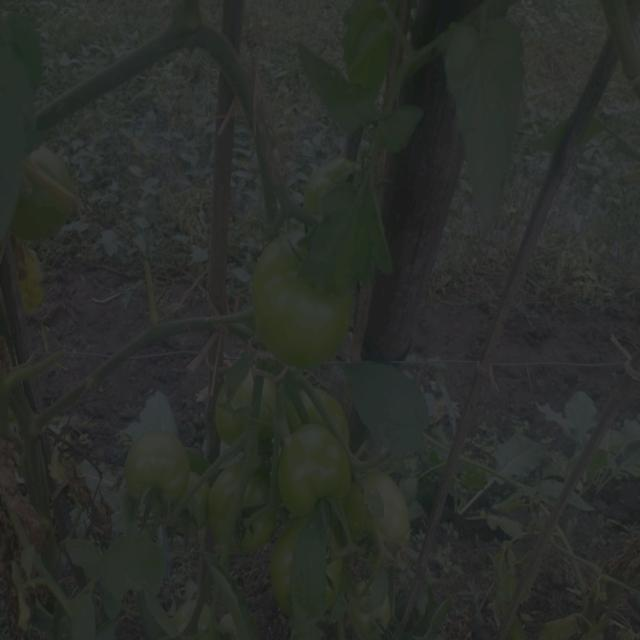tomato: (247, 237, 352, 362), (277, 428, 349, 505), (208, 471, 276, 545), (126, 432, 191, 500), (363, 464, 412, 550), (262, 521, 297, 616), (24, 167, 72, 232), (302, 157, 356, 193), (211, 398, 244, 446), (319, 541, 340, 611), (228, 367, 254, 421), (353, 609, 397, 640)
